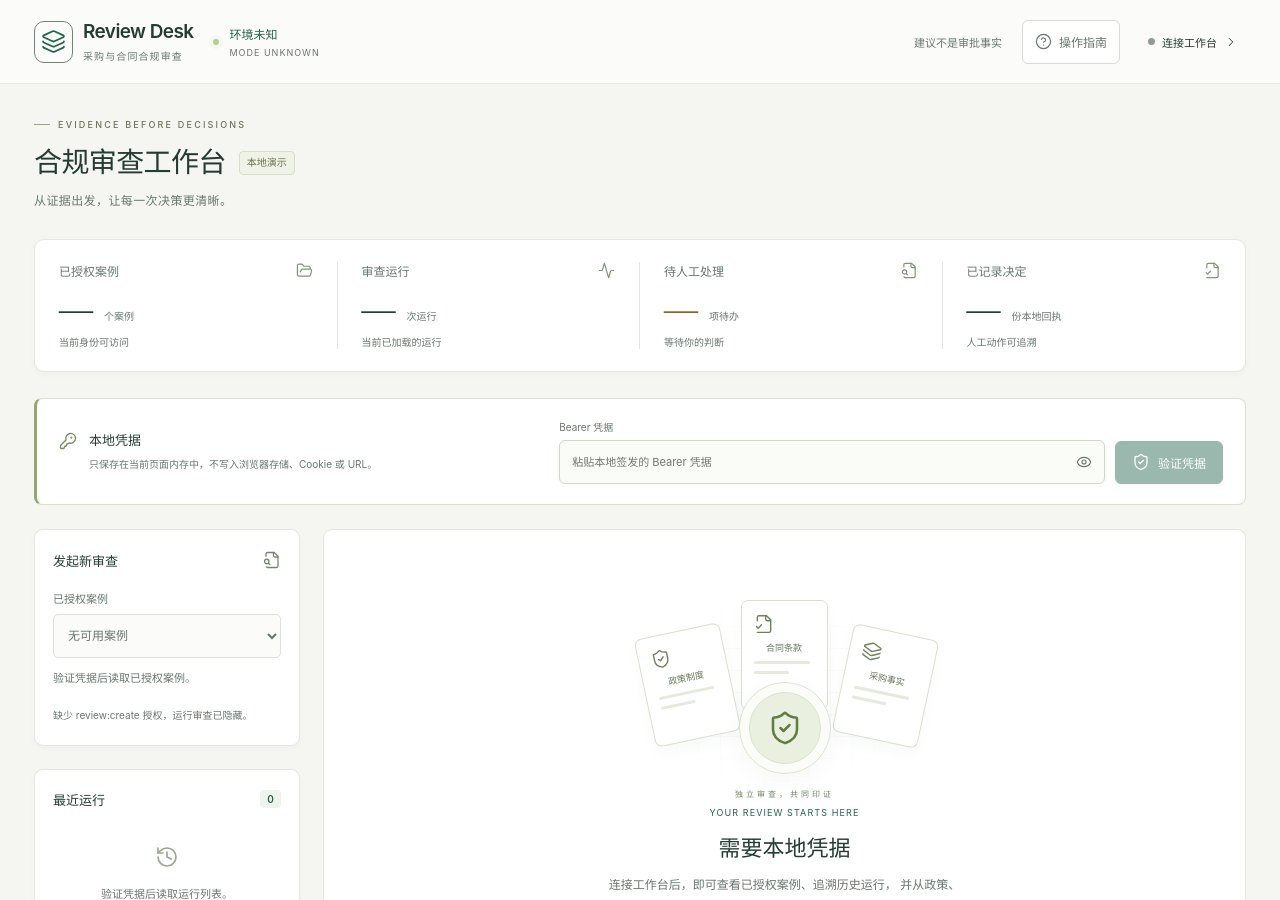
FIX-06C create response binding (R-03) › does not cache, select or adopt a Run whose Case does not match
In the password field labelled "Bearer 凭据": (812, 462) x1=560 y1=441 x2=1064 y2=483, type "fix01c-local-credential"
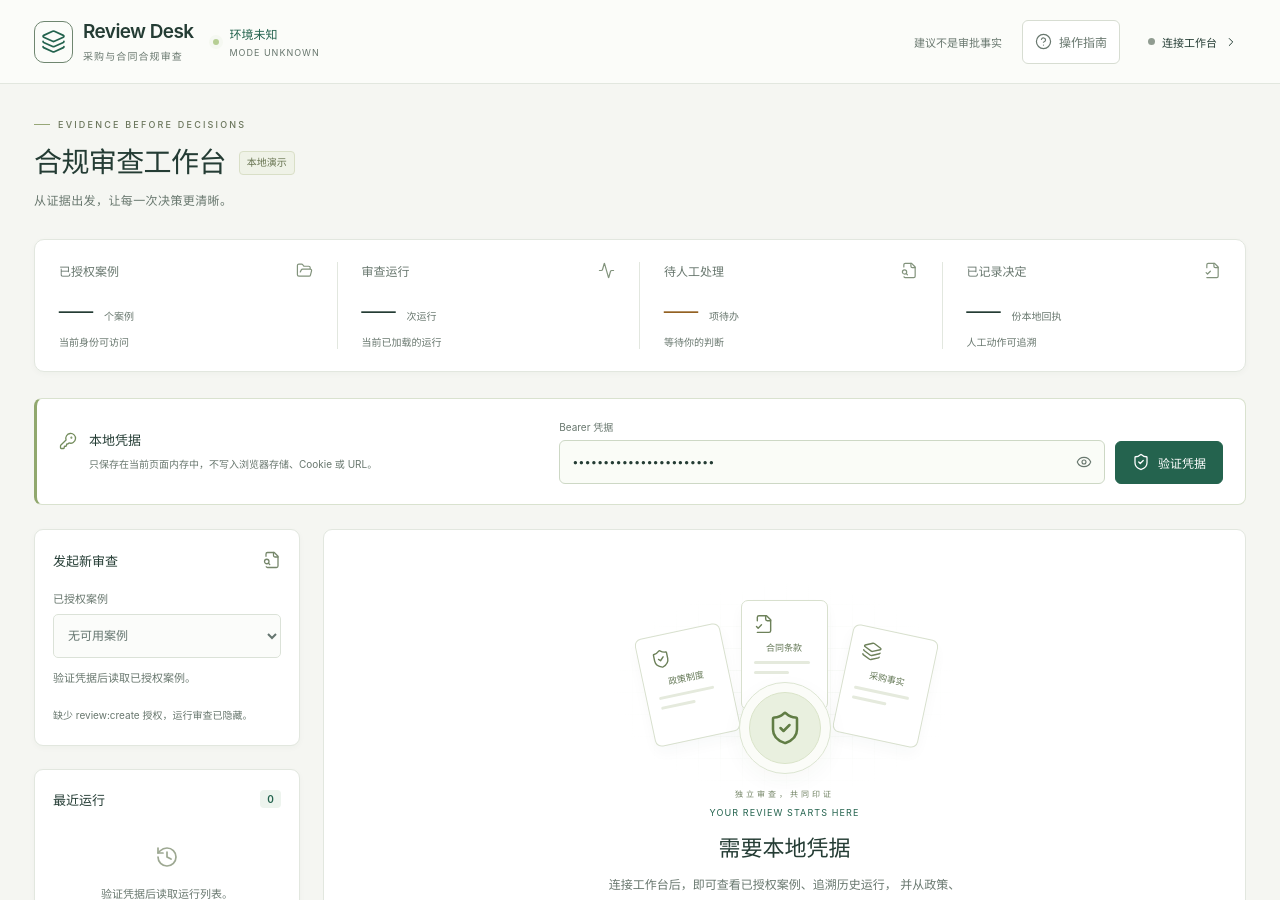
Click the button "验证凭据": (1169, 462) x1=1115 y1=441 x2=1223 y2=484
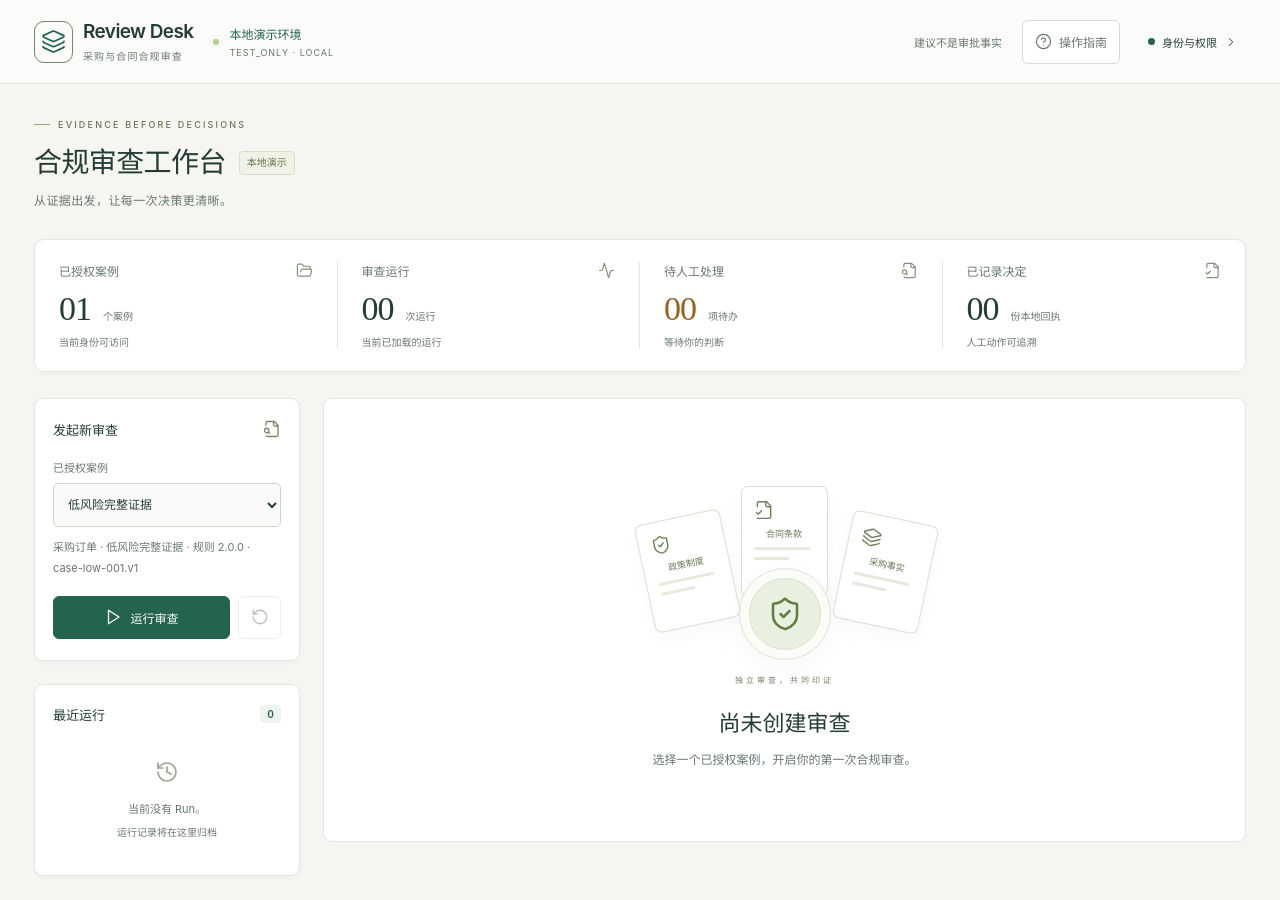
Click the button "运行审查": (142, 617) x1=53 y1=596 x2=230 y2=639
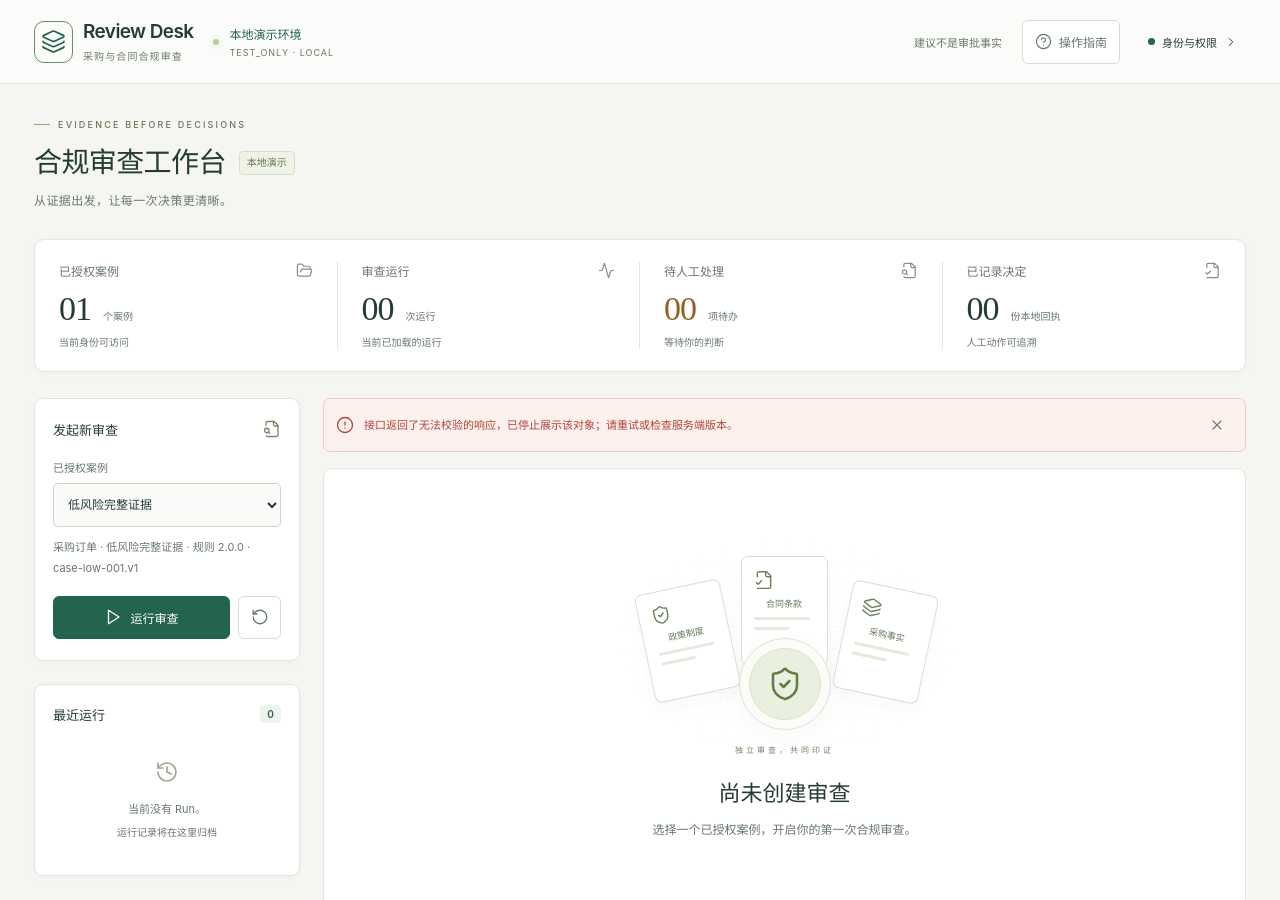
expect the button named "重放最近创建请求" is enabled: met, box x1=238 y1=596 x2=281 y2=639
